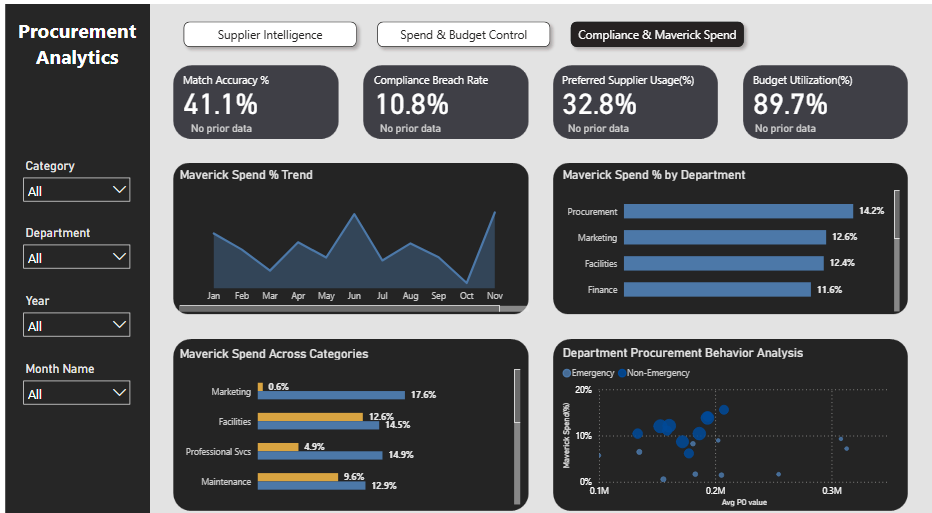

The page's visual inventory and layout, read from the dashboard file:
{"tool":"powerbi","page":{"name":"Compliance & Maverick Spend","canvas":[1280,720],"ordinal":2},"visuals":[{"type":"cardVisual","fields":{"Data":["_Key_Measures.3_way Match(%)"]},"box":[240.9,93.6,212,90.8],"z":0},{"type":"cardVisual","fields":{"Data":["_Key_Measures.Maverick Spend(%)"]},"box":[502.4,93.6,214.7,90.8],"z":1000},{"type":"cardVisual","fields":{"Data":["_Key_Measures.Preferred Supplier Usage(%)"]},"box":[761.1,93.6,210.6,90.8],"z":2000},{"type":"areaChart","title":"Maverick Spend % Trend","fields":{"Category":["Calendar.Month Short"],"Y":["_Key_Measures.Maverick Spend(%)"]},"box":[235.4,224.3,490,203.7],"z":3000},{"type":"clusteredBarChart","title":"Maverick Spend % by Department","fields":{"Category":["Data.Department"],"Y":["_Key_Measures.Maverick Spend(%)"]},"box":[761.1,224.3,473.5,203.7],"z":4000},{"type":"scatterChart","title":"Department Procurement Behavior Analysis","fields":{"X":["_Key_Measures.Avg PO value"],"Y":["_Key_Measures.Maverick Spend(%)"],"Size":["CountNonNull(Data.PO Number)"],"Series":["Data.Emergency"],"Category":["Data.Department"]},"box":[761.1,468,473.5,227.1],"z":5000},{"type":"cardVisual","fields":{"Data":["_Key_Measures.Budget Utilization(%)"]},"box":[1024,93.6,207.8,90.8],"z":6000},{"type":"cardVisual","fields":{"Data":["_Key_Measures.3-Way Match Context"]},"box":[251.9,162.4,214.7,22],"z":7000},{"type":"cardVisual","fields":{"Data":["_Key_Measures.Maverick Context"]},"box":[510.6,162.4,214.7,22],"z":8000},{"type":"cardVisual","fields":{"Data":["_Key_Measures.Preferred Supplier Context"]},"box":[769.4,162.4,214.7,22],"z":9000},{"type":"cardVisual","fields":{"Data":["_Key_Measures.Budget Utilization Context"]},"box":[1026.8,162.4,214.7,22],"z":10000},{"type":"clusteredBarChart","title":"Maverick Spend Across Categories","fields":{"Y":["_Key_Measures.Maverick Spend(%)"],"Series":["Data.Emergency"],"Category":["Data.Category"]},"box":[235.4,469.3,477.6,223],"z":11000},{"type":"pageNavigator","box":[236.7,15.1,790,53.7],"z":12000},{"type":"slicer","fields":{"Values":["Data.Category"]},"box":[15.1,207.5,166.5,70.2],"z":13000},{"type":"slicer","fields":{"Values":["Data.Department"]},"box":[15.1,299.5,166.5,71.6],"z":14000},{"type":"slicer","fields":{"Values":["Calendar.Year"]},"box":[15.1,393,166.5,71.6],"z":15000},{"type":"slicer","fields":{"Values":["Calendar.Month Name"]},"box":[15.1,486.5,166.5,71.6],"z":16000},{"type":"textbox","box":[0,12.4,198.2,93.6],"z":17000}]}

Visuals, with their boxes in screenshot pixels (x1, y1, x2, y2), scaled from the page's 1280x720 canvas onto the 932x513 screenshot:
cardVisual - _Key_Measures.3_way Match(%): l=175, t=67, r=330, b=131
cardVisual - _Key_Measures.Maverick Spend(%): l=366, t=67, r=522, b=131
cardVisual - _Key_Measures.Preferred Supplier Usage(%): l=554, t=67, r=708, b=131
"Maverick Spend % Trend" areaChart: l=171, t=160, r=528, b=305
"Maverick Spend % by Department" clusteredBarChart: l=554, t=160, r=899, b=305
"Department Procurement Behavior Analysis" scatterChart: l=554, t=333, r=899, b=495
cardVisual - _Key_Measures.Budget Utilization(%): l=746, t=67, r=897, b=131
cardVisual - _Key_Measures.3-Way Match Context: l=183, t=116, r=340, b=131
cardVisual - _Key_Measures.Maverick Context: l=372, t=116, r=528, b=131
cardVisual - _Key_Measures.Preferred Supplier Context: l=560, t=116, r=717, b=131
cardVisual - _Key_Measures.Budget Utilization Context: l=748, t=116, r=904, b=131
"Maverick Spend Across Categories" clusteredBarChart: l=171, t=334, r=519, b=493
pageNavigator: l=172, t=11, r=748, b=49
slicer - Data.Category: l=11, t=148, r=132, b=198
slicer - Data.Department: l=11, t=213, r=132, b=264
slicer - Calendar.Year: l=11, t=280, r=132, b=331
slicer - Calendar.Month Name: l=11, t=347, r=132, b=398
textbox: l=0, t=9, r=144, b=76
